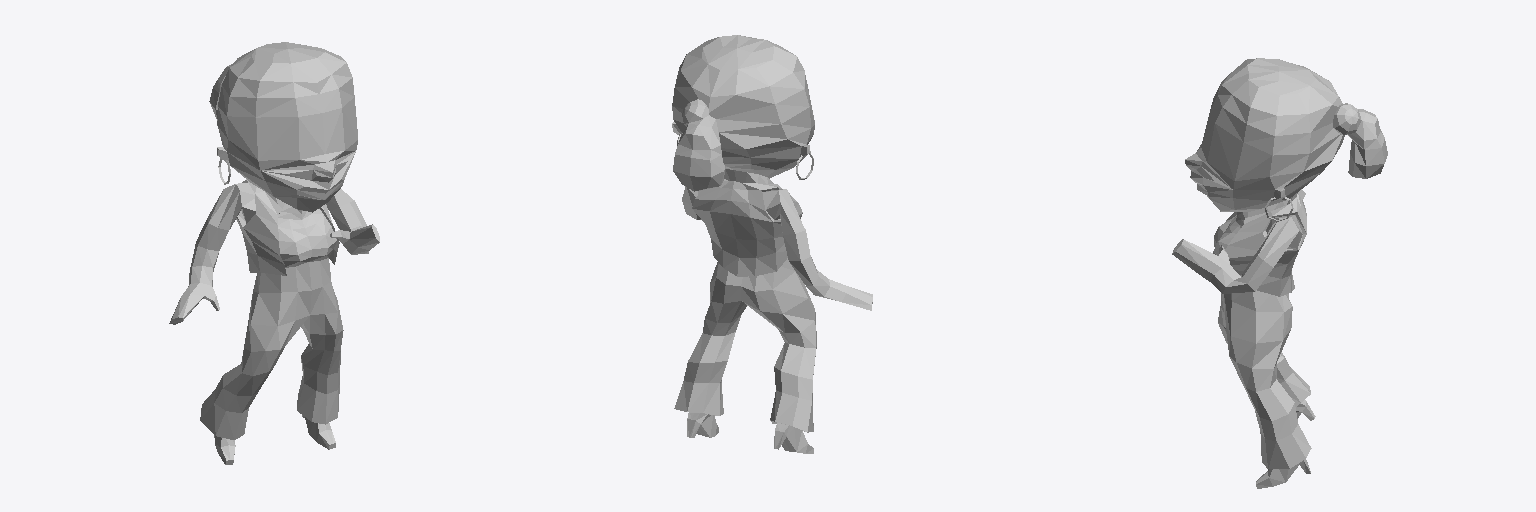
The model's file is bailarina_000174.obj.
The picture shows the model from 3 angles: view 1: azimuth 30°, elevation 25°; view 2: azimuth 150°, elevation 25°; view 3: azimuth 270°, elevation 25°; orthographic projection.
Parts seen in each view (by area): view 1: bAilarina:Mesh; view 2: bAilarina:Mesh; view 3: bAilarina:Mesh.
Part boxes in pixels (bbox=[...]): bAilarina:Mesh: bbox=[169, 42, 379, 464]; bAilarina:Mesh: bbox=[672, 35, 872, 453]; bAilarina:Mesh: bbox=[1172, 58, 1387, 488].
Size of the model in its own units: 8.56 by 17.21 by 8.42.